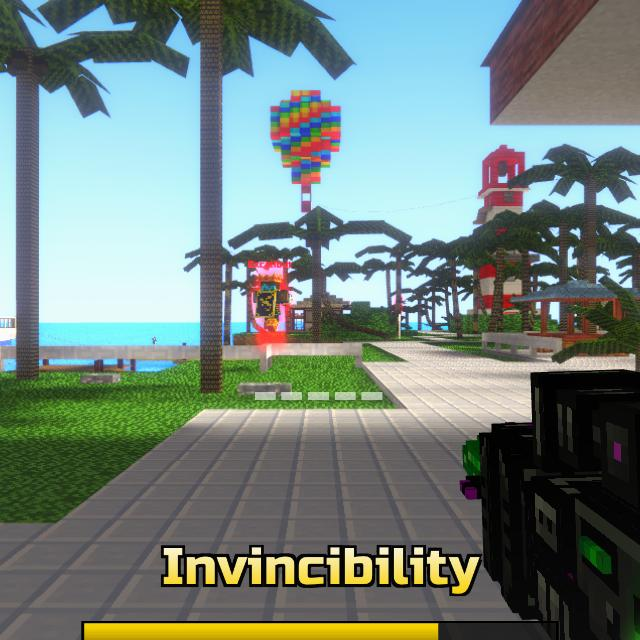Enemy: (254, 273, 291, 331)
